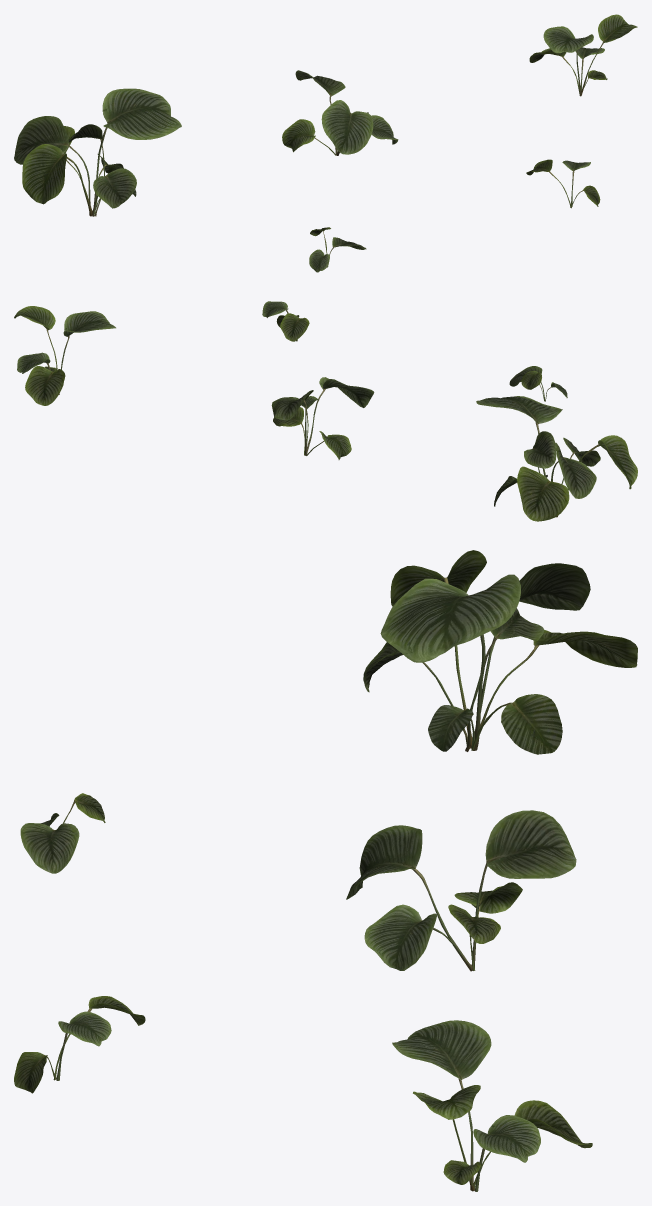
Rendered from calathea_orbifolia_01.glb.
3 renders of one model, top to bottom at view 1: azimuth 30°, elevation 25°; view 2: azimuth 150°, elevation 25°; view 3: azimuth 270°, elevation 25°, orthographic. The views are drawn at different scales.
Parts seen in each view (by area): view 1: calathea_orbifolia_01_a, calathea_orbifolia_01_b, calathea_orbifolia_01_c, calathea_orbifolia_01_e, calathea_orbifolia_01_d; view 2: calathea_orbifolia_01_a, calathea_orbifolia_01_c, calathea_orbifolia_01_b, calathea_orbifolia_01_e, calathea_orbifolia_01_d; view 3: calathea_orbifolia_01_a, calathea_orbifolia_01_b, calathea_orbifolia_01_c, calathea_orbifolia_01_e, calathea_orbifolia_01_d.
Boxes of the visible parts, x1,y1,x2,y2 form: calathea_orbifolia_01_a: (14,88,181,216); calathea_orbifolia_01_b: (282,70,398,155); calathea_orbifolia_01_c: (529,14,637,96); calathea_orbifolia_01_e: (526,159,600,208); calathea_orbifolia_01_d: (309,227,366,272); calathea_orbifolia_01_a: (476,396,637,521); calathea_orbifolia_01_c: (14,306,115,405); calathea_orbifolia_01_b: (271,377,374,459); calathea_orbifolia_01_e: (262,301,309,341); calathea_orbifolia_01_d: (509,366,567,401); calathea_orbifolia_01_a: (363,550,637,754); calathea_orbifolia_01_b: (346,810,576,971); calathea_orbifolia_01_c: (392,1020,592,1191); calathea_orbifolia_01_e: (14,996,145,1093); calathea_orbifolia_01_d: (20,793,105,873).
Size of the model in its own units: 2.49 by 0.4243 by 1.19.
1 material, 1 textured.
